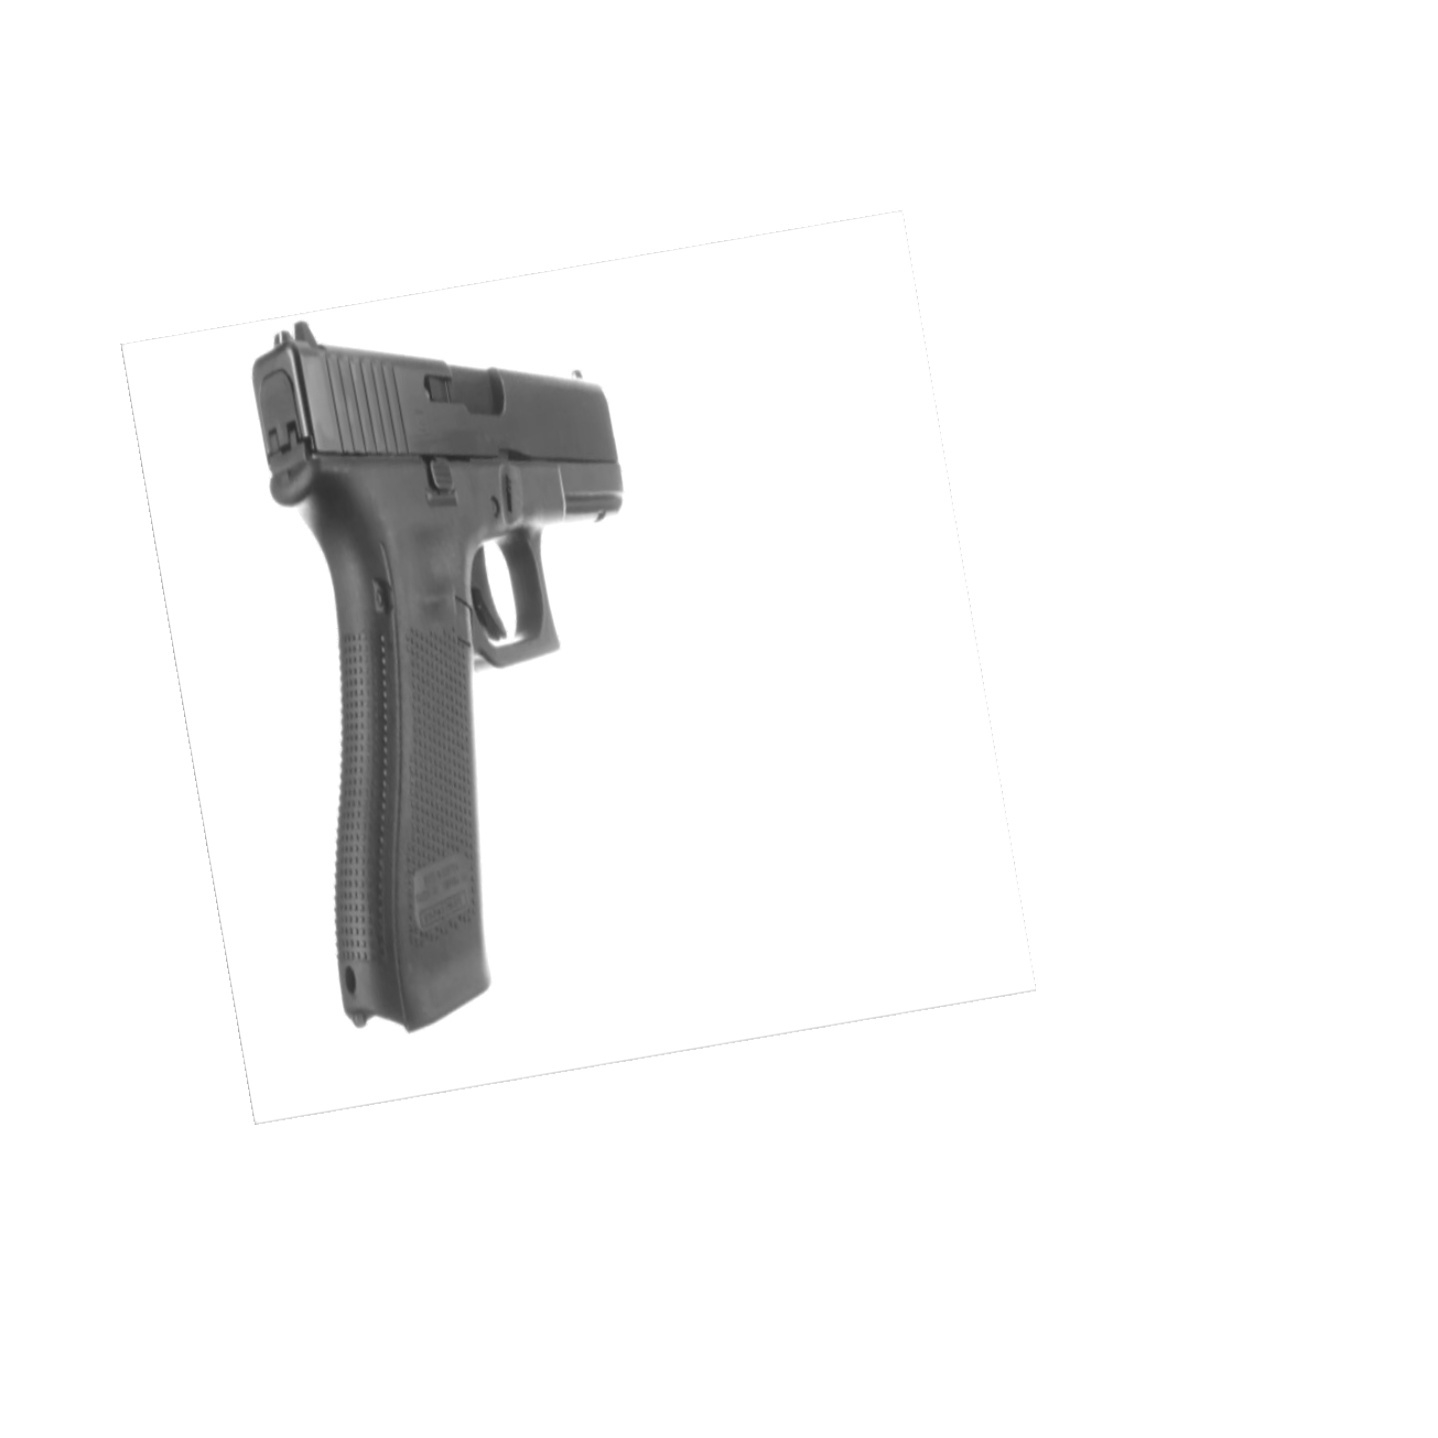gun: (244, 319, 629, 1034)
